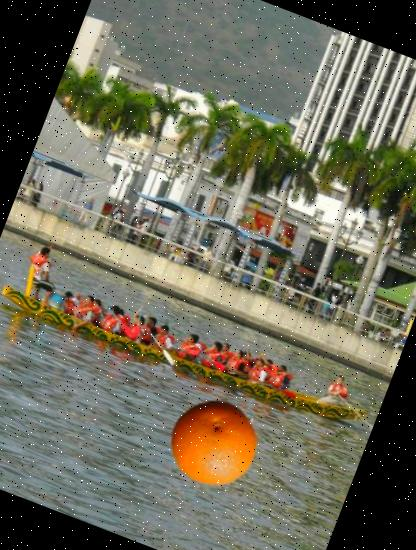Orange: (157, 386, 272, 500)
